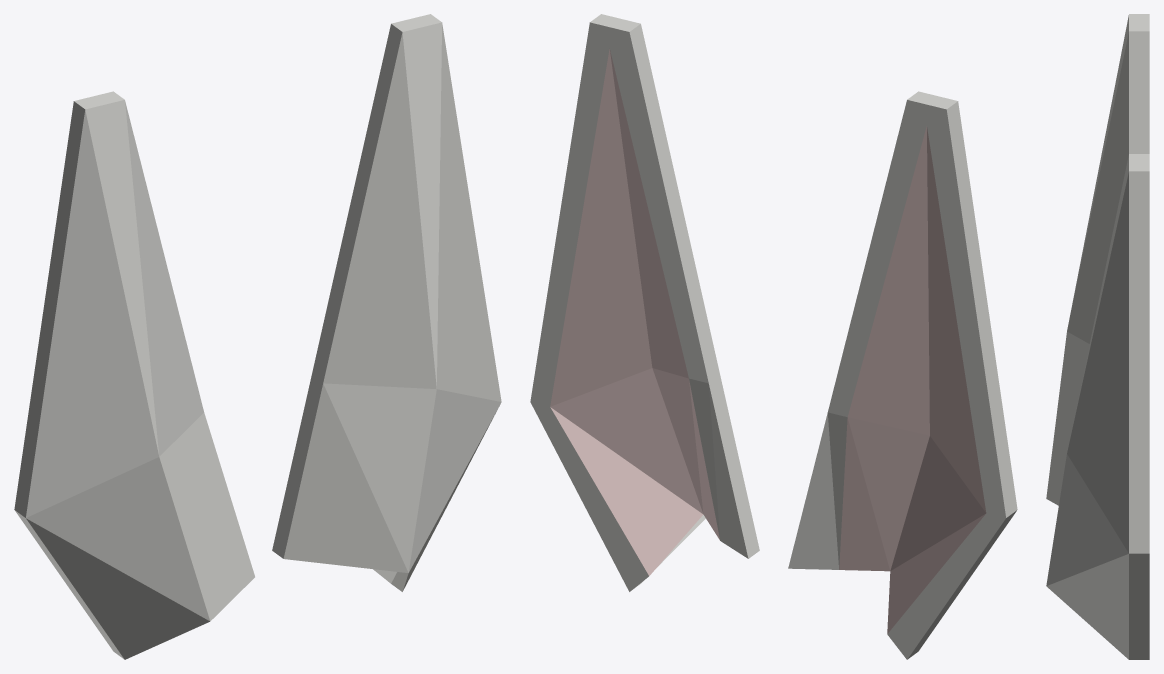
The model's file is itm_model0_bunny_ears.obj.
3 views of the same model, side by side, from view 1: azimuth 30°, elevation 25°; view 2: azimuth 150°, elevation 25°; view 3: azimuth 270°, elevation 25° (orthographic). The views are drawn at different scales.
Size of the model in its own units: 0.1875 by 0.2109 by 0.0391.
